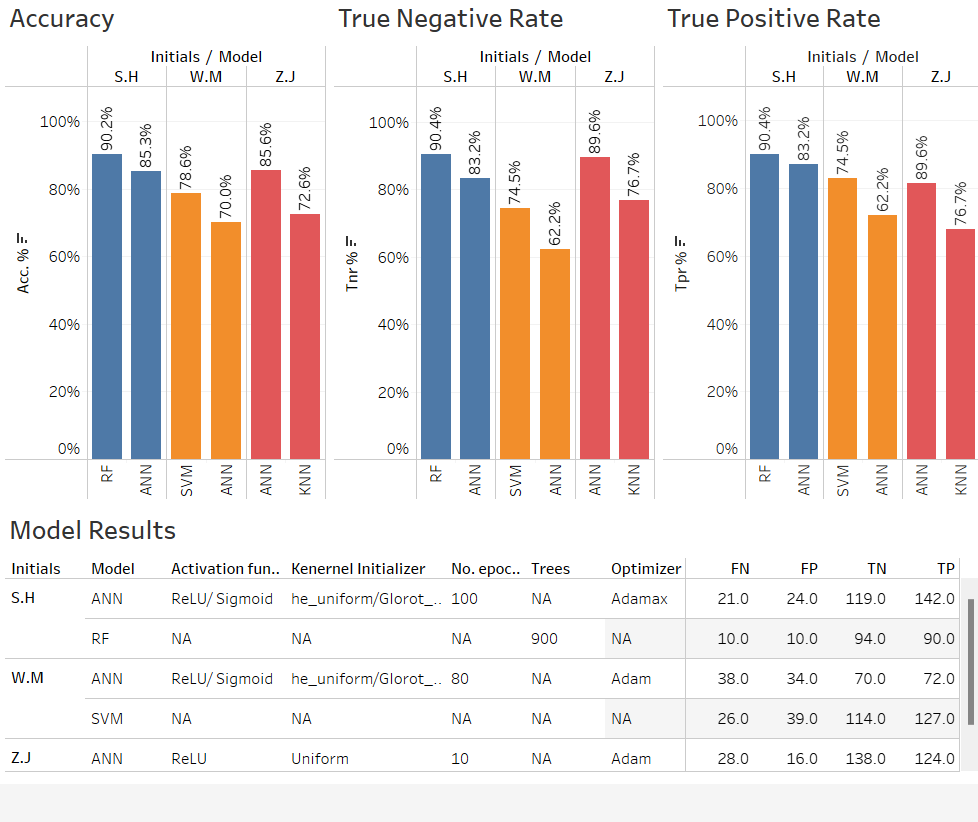

The page's visual inventory and layout, read from the dashboard file:
{"tool":"tableau","page":{"name":"Dashboard 2","canvas":[1000,800],"ordinal":0},"visuals":[{"type":"worksheet","title":"ACC","mark":"Automatic","rows":["Acc. %"],"cols":["Initials","Model"],"box":[8,8,329,512]},{"type":"worksheet","title":"TNR","mark":"Automatic","rows":["TNR %"],"cols":["Initials","Model"],"box":[337,8,329,512]},{"type":"worksheet","title":"TPR","mark":"Automatic","rows":["TPR %"],"cols":["Initials","Model"],"box":[666,8,326,512]},{"type":"worksheet","title":"Table","mark":"Automatic","rows":["Initials","Model","Activation function","Kenernel Initializer","No. epochs used","Trees","Optimizer"],"box":[8,520,984,272]}]}

Visuals, with their boxes on the page's 1000x800 design canvas (x1, y1, x2, y2). These are canvas units, not pixel positions in the 978x822 screenshot, which may show the page scaled, cropped or inside an application window:
"ACC" worksheet: (8, 8, 337, 520)
"TNR" worksheet: (337, 8, 666, 520)
"TPR" worksheet: (666, 8, 992, 520)
"Table" worksheet: (8, 520, 992, 792)
